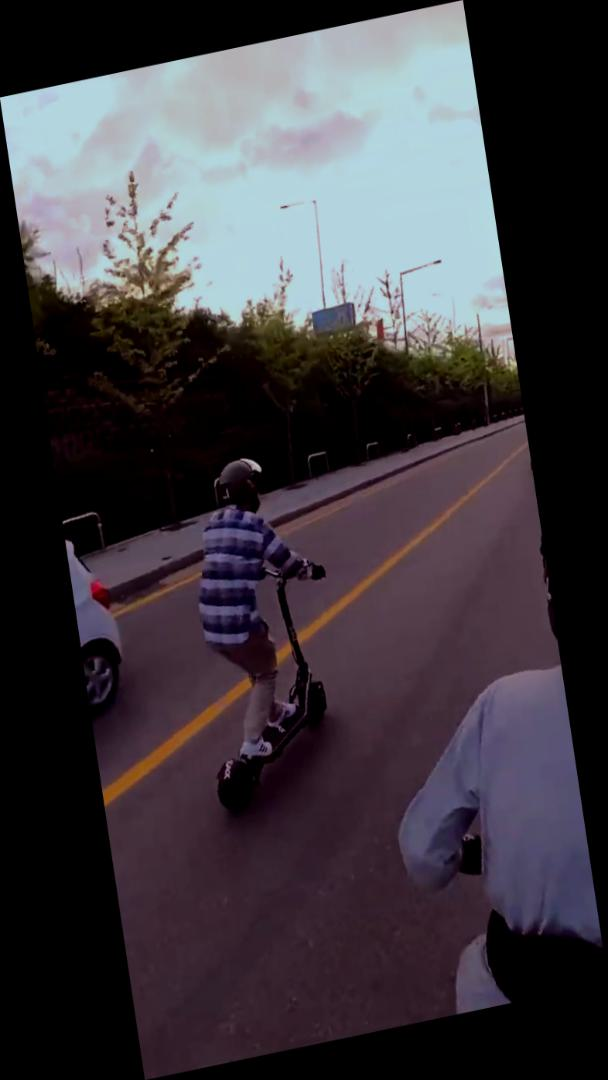helmet: (167, 438, 363, 822)
